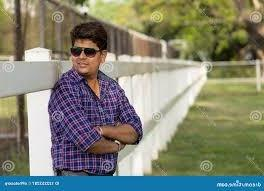Human: (45, 21, 144, 172)
